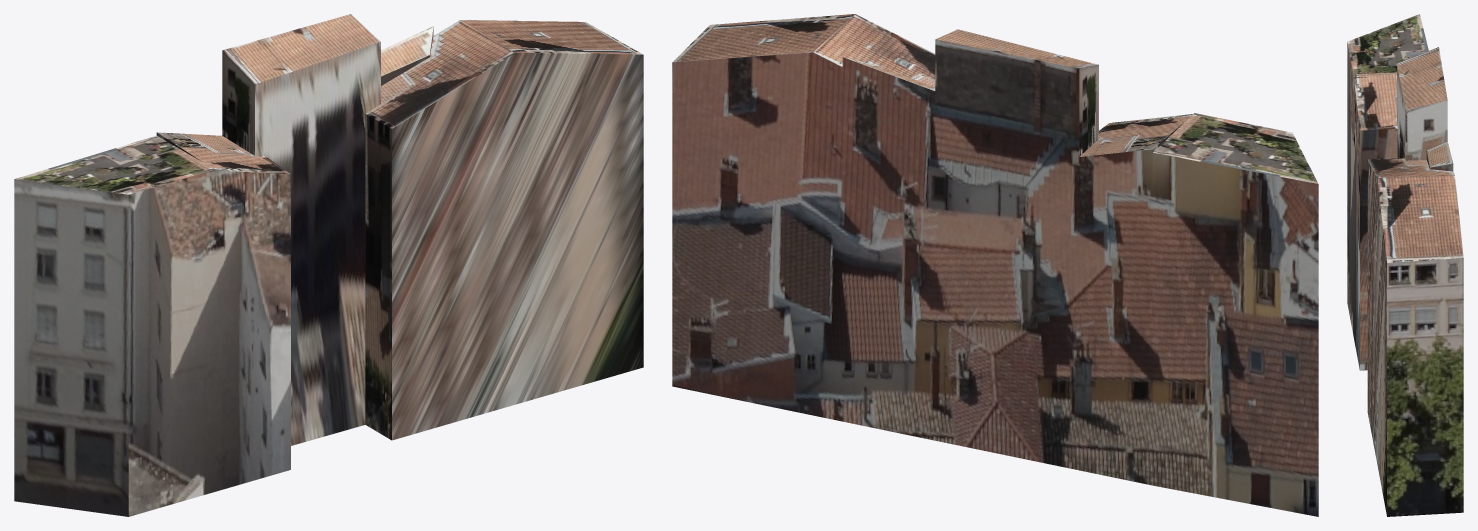
The picture shows the model from 3 angles, left to right: view 1: azimuth 30°, elevation 25°; view 2: azimuth 150°, elevation 25°; view 3: azimuth 270°, elevation 25°; orthographic projection. The views are drawn at different scales.
Parts seen in each view (by area): view 1: Z_UP; view 2: Z_UP; view 3: Z_UP.
Part boxes in pixels (x1,y1,x2,y2): Z_UP: [14, 14, 643, 516]; Z_UP: [672, 14, 1318, 516]; Z_UP: [1347, 14, 1463, 516].
Bounding box in the file's own units: 39.32 × 23.98 × 8.
Materials: 2 (1 with a texture image).
